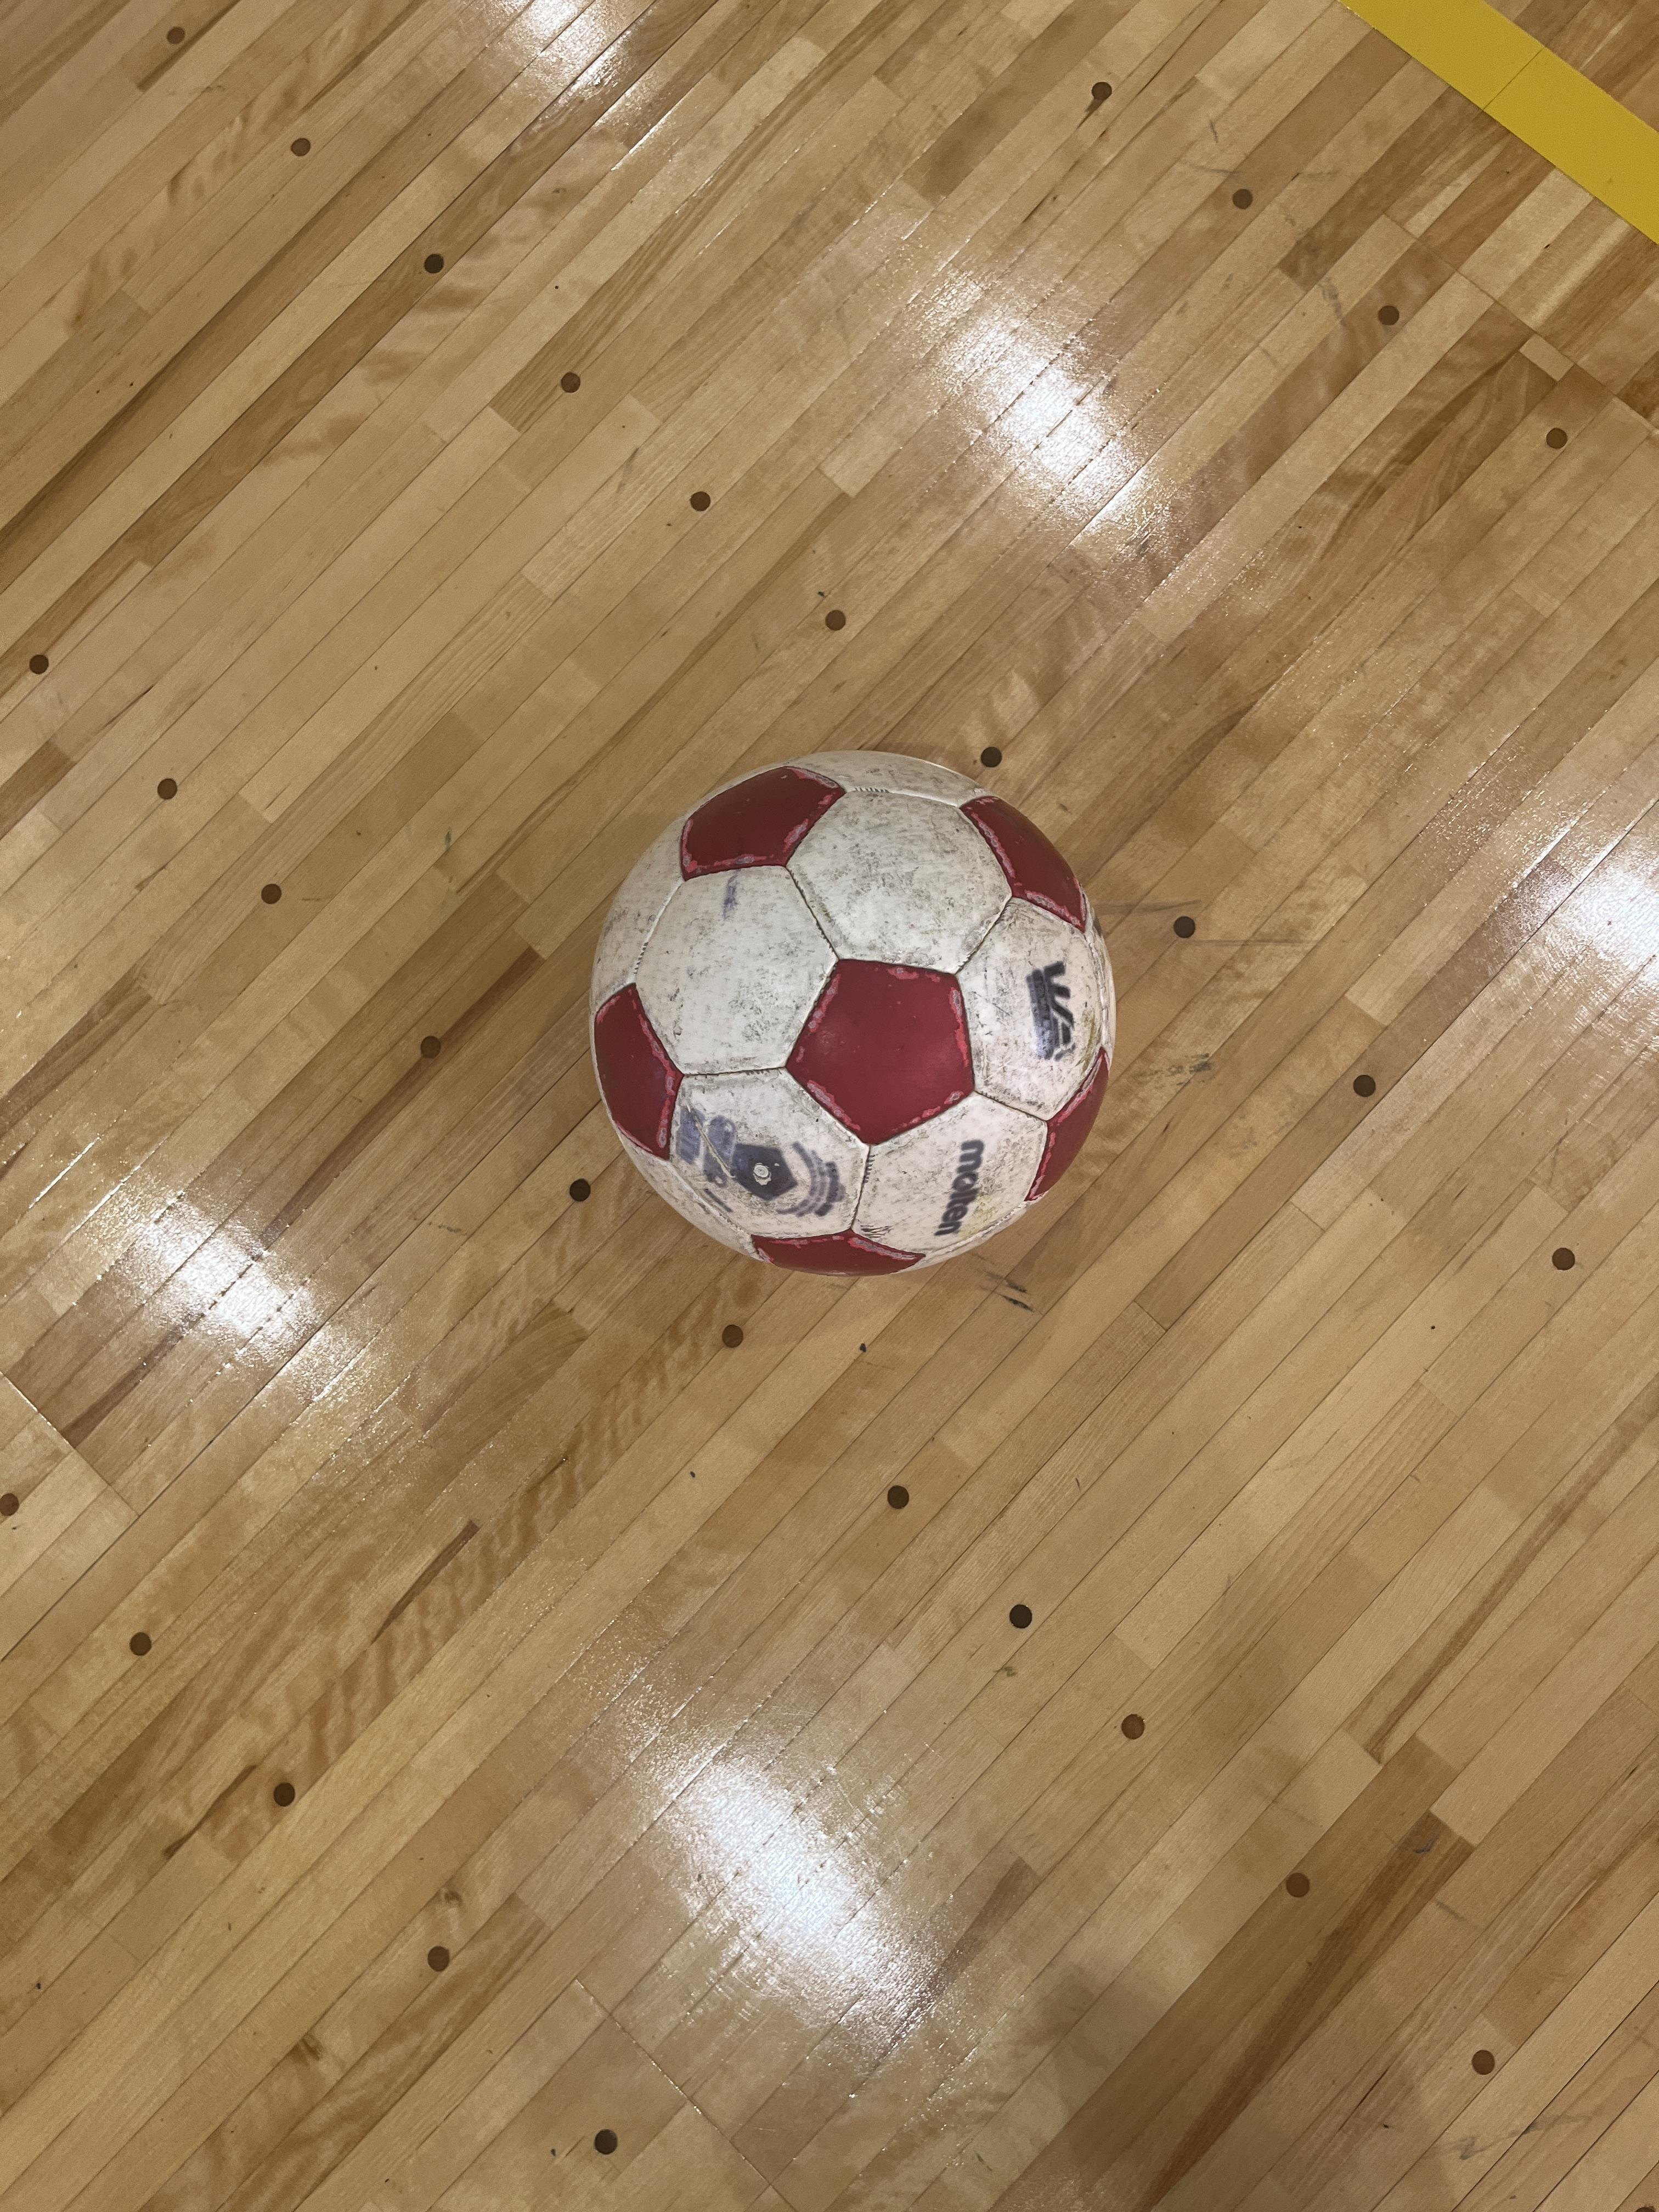Sports-Ball: (598, 782, 1122, 1266)
